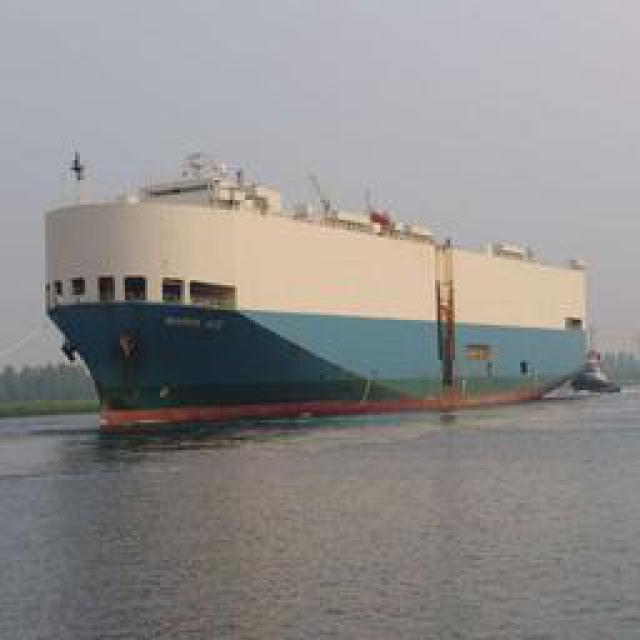Ship: (42, 191, 600, 426)
